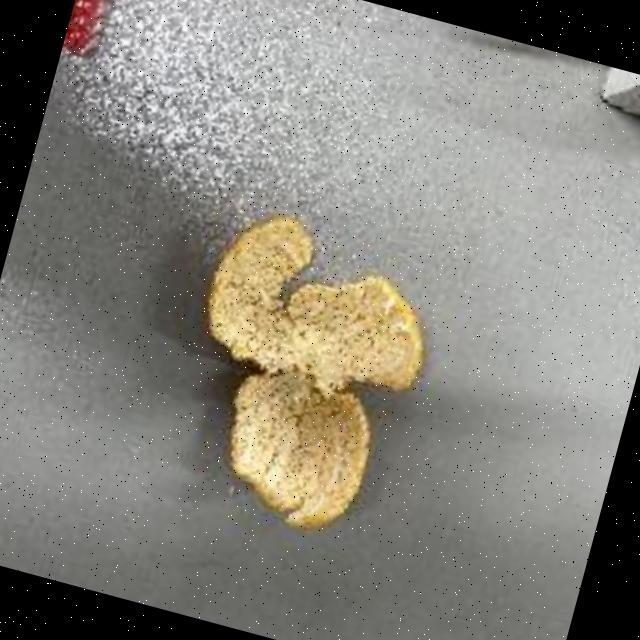orange-peel: (181, 216, 440, 590)
